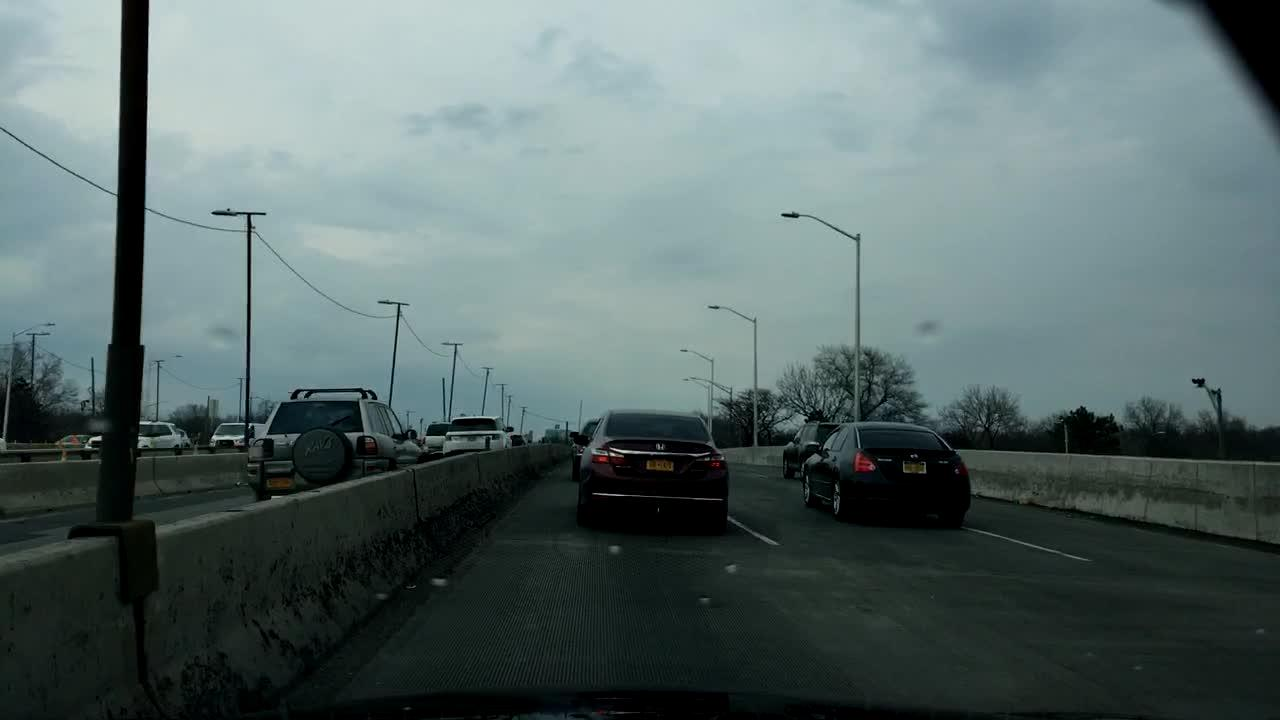Honda: (650, 438, 669, 457)
